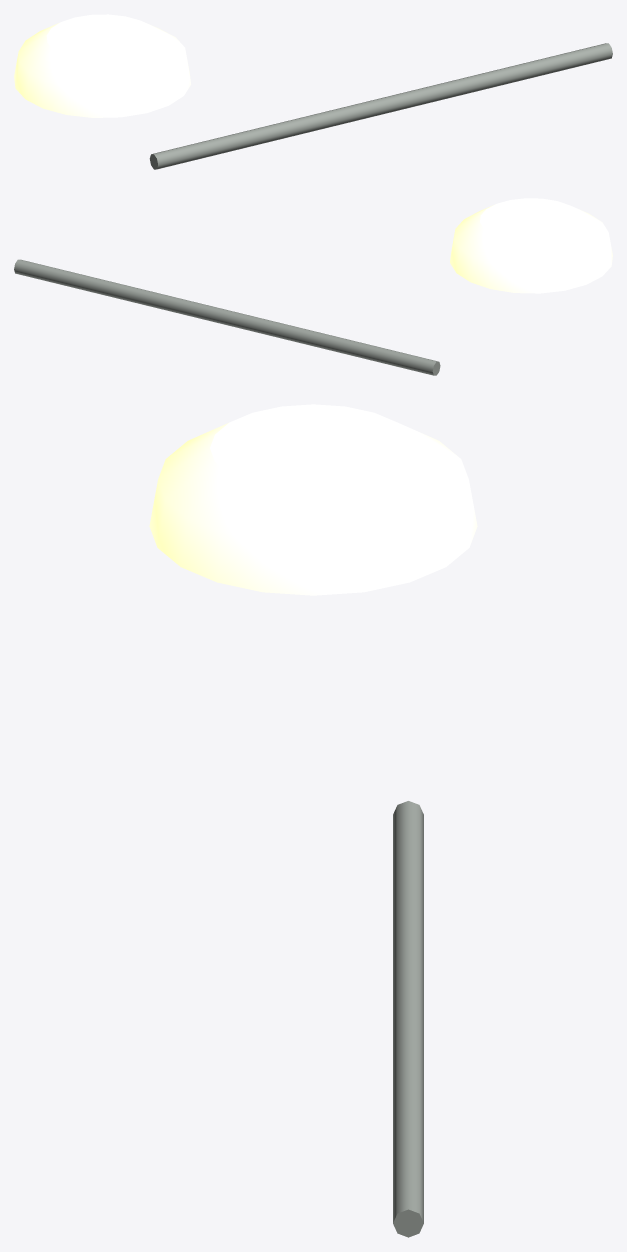
The model's file is SM_Town_Motel_Room6Fixtures.glb.
The picture shows the model from 3 angles, top to bottom: view 1: azimuth 30°, elevation 25°; view 2: azimuth 150°, elevation 25°; view 3: azimuth 270°, elevation 25°; orthographic projection. The views are drawn at different scales.
Visible parts, largest first — view 1: SM_Town_Motel_Room6Fixtures; view 2: SM_Town_Motel_Room6Fixtures; view 3: SM_Town_Motel_Room6Fixtures.
Part boxes in pixels (x1,y1,x2,y2): SM_Town_Motel_Room6Fixtures: (14, 14, 612, 169); SM_Town_Motel_Room6Fixtures: (14, 198, 612, 375); SM_Town_Motel_Room6Fixtures: (149, 404, 477, 1237).
Bounding box in the file's own units: 1.5 × 0.398 × 0.38.
